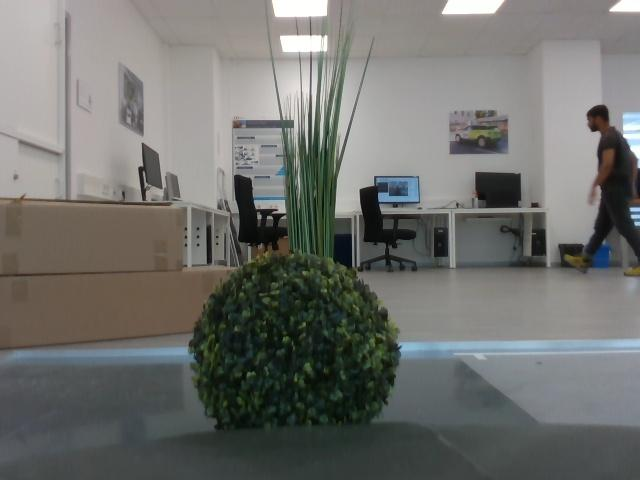potted plant: (188, 257, 399, 427), (265, 11, 378, 261)
